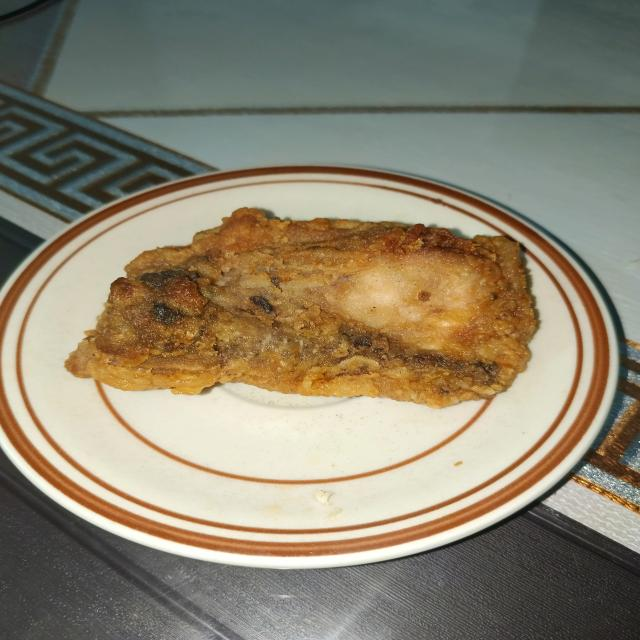Chicken -Fried Chicken-: (69, 197, 550, 421)
